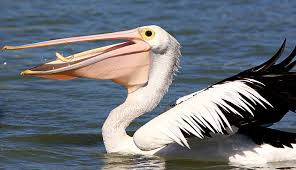pelican: (2, 25, 296, 155)
